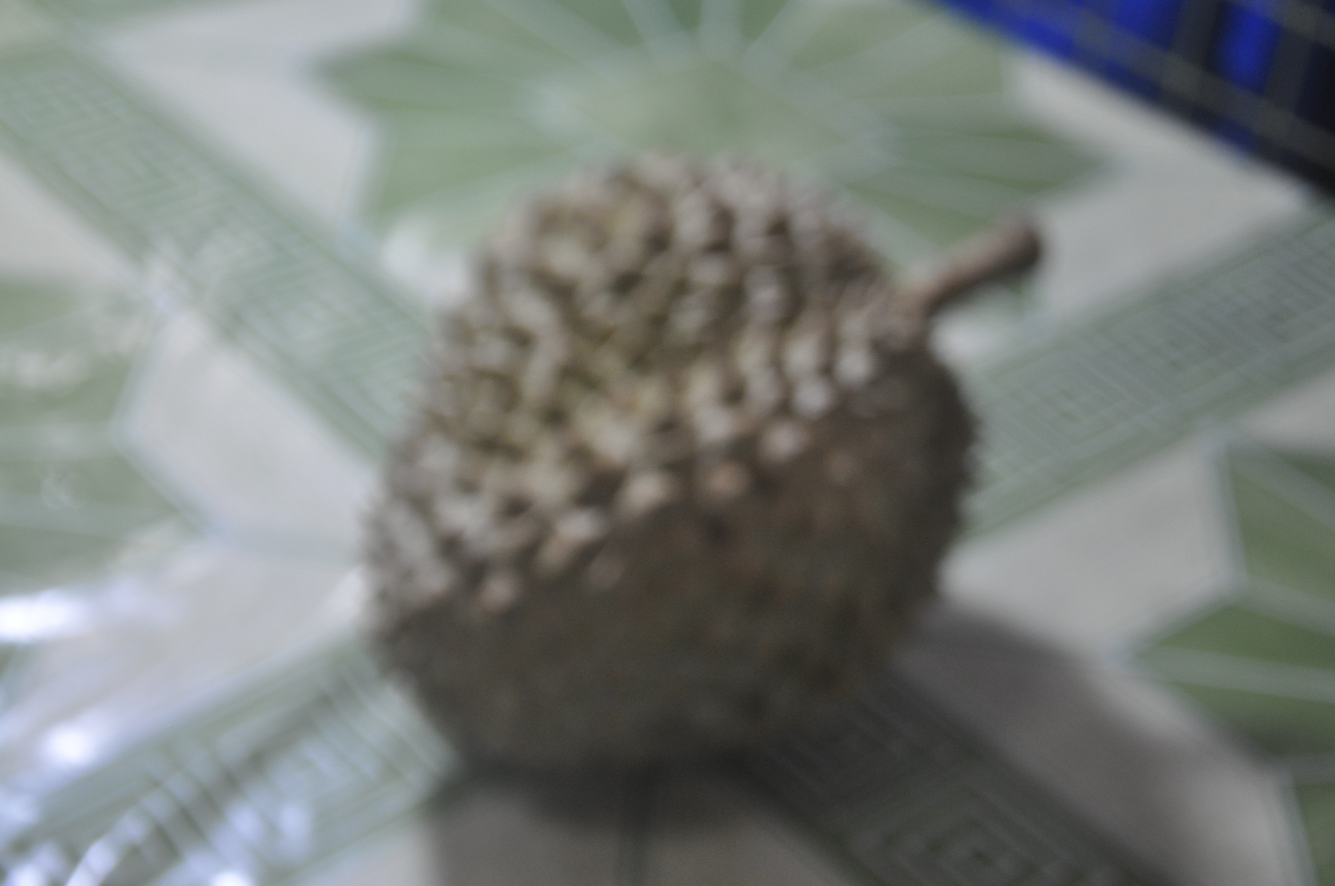mature: (366, 153, 1038, 795)
